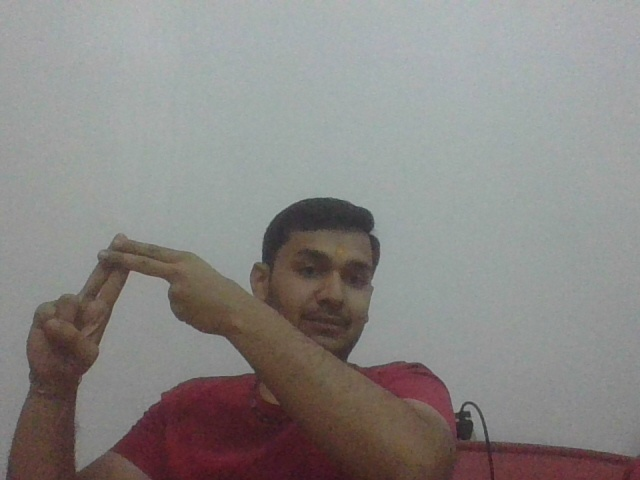F: (22, 228, 236, 371)
